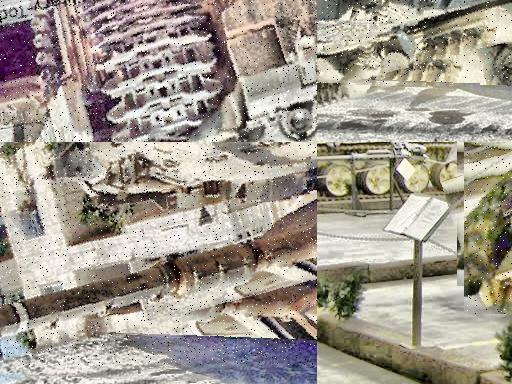tanks: (1, 1, 318, 143), (1, 200, 318, 341), (59, 143, 318, 210), (318, 1, 512, 75), (318, 143, 460, 201)
